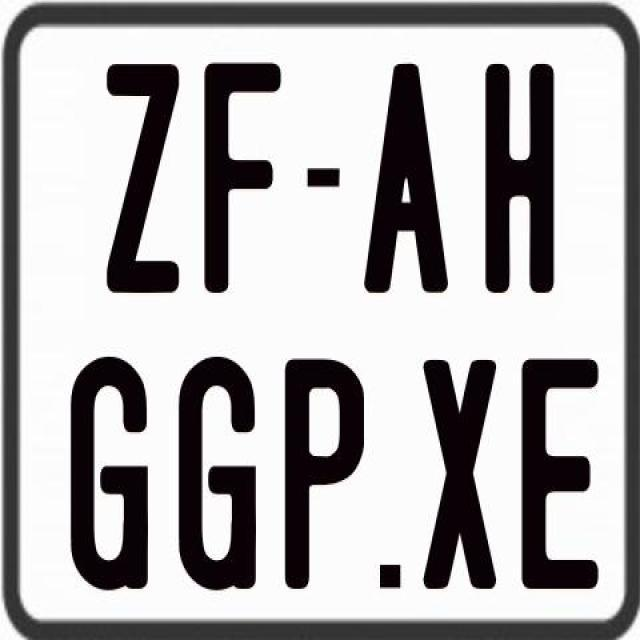A: (363, 63, 448, 300)
E: (518, 354, 598, 586)
F: (204, 63, 282, 300)
G: (70, 352, 154, 587), (177, 356, 256, 590)
H: (481, 62, 555, 292)
P: (281, 357, 368, 592)
X: (423, 360, 501, 597)
Z: (106, 62, 182, 296)
